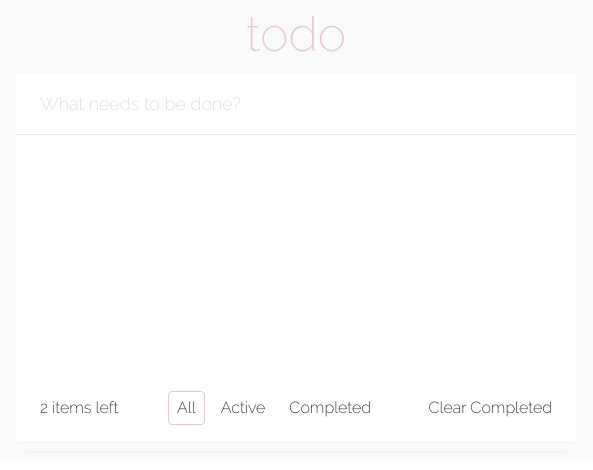
Test: Main Component › add a new task
In the field with placeholder "What needs to be done?": point(296, 104) [16,74,576,135], type "New Task"
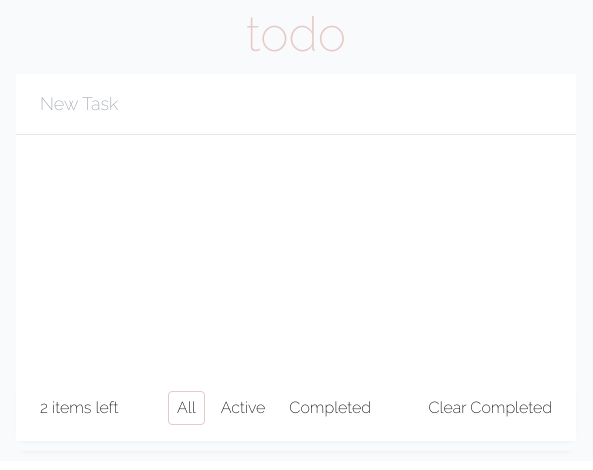
Submit the form with placeholder "What needs to be done?", box [16,74,576,135]
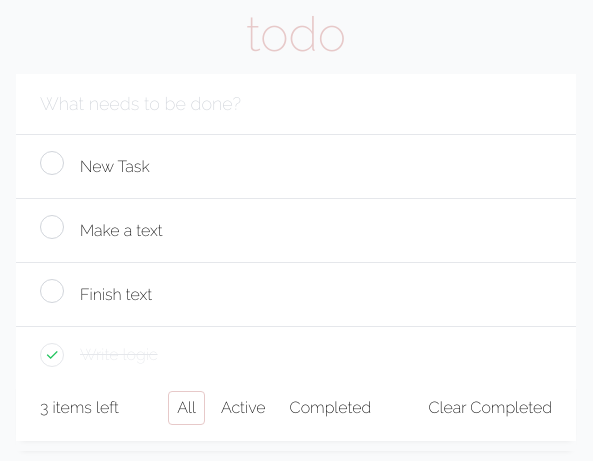
Expected: the text "New Task" is shown, [80,154,150,178]
